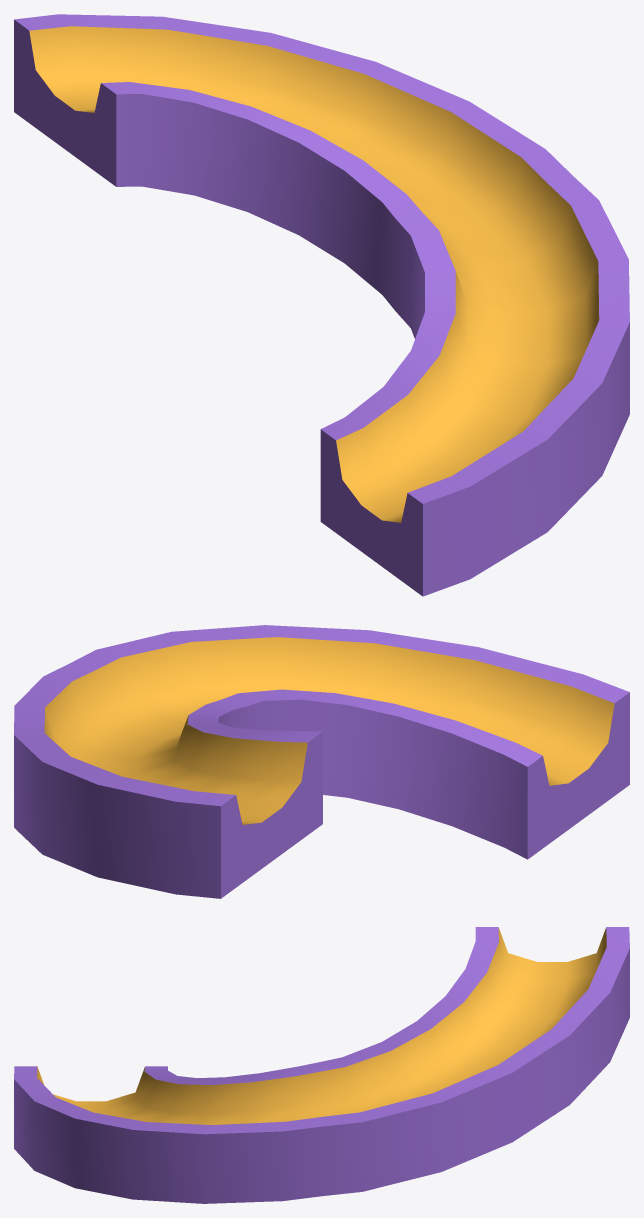
The model's file is kenney-marble-helix-half-left.glb.
The picture shows the model from 3 angles, top to bottom: view 1: azimuth 30°, elevation 25°; view 2: azimuth 150°, elevation 25°; view 3: azimuth 270°, elevation 25°; orthographic projection. The views are drawn at different scales.
Parts seen in each view (by area): view 1: helix-half-left; view 2: helix-half-left; view 3: helix-half-left.
Part boxes in pixels (x1,y1,x2,y2): helix-half-left: [14, 14, 629, 596]; helix-half-left: [14, 625, 629, 898]; helix-half-left: [14, 927, 629, 1203].
Size of the model in its own units: 2 by 1.5 by 4.01.
Materials: 1 (1 with a texture image).
